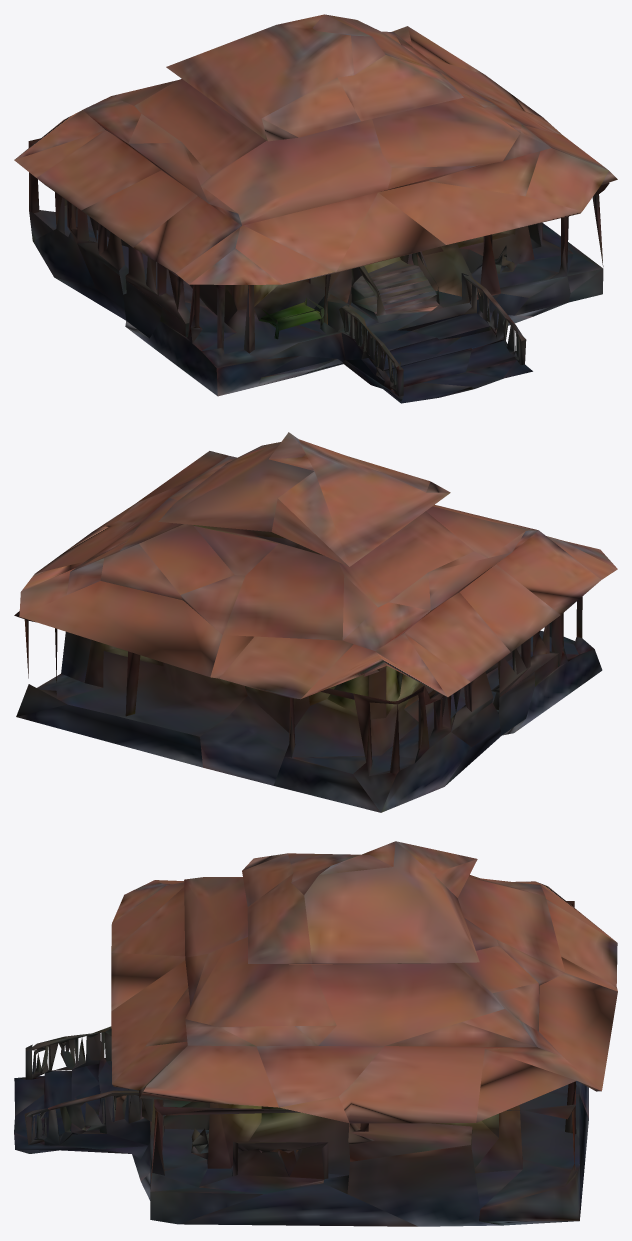
File: rumah_bhagawan_lod2.glb
3 views of the same model, one above another, from view 1: azimuth 30°, elevation 25°; view 2: azimuth 150°, elevation 25°; view 3: azimuth 270°, elevation 25° (orthographic). The views are drawn at different scales.
Parts seen in each view (by area): view 1: tripo_node_900529af-2d0c-4f46-9b9a-b20896b5082d; view 2: tripo_node_900529af-2d0c-4f46-9b9a-b20896b5082d; view 3: tripo_node_900529af-2d0c-4f46-9b9a-b20896b5082d.
Boxes of the visible parts, x1,y1,x2,y2 form: tripo_node_900529af-2d0c-4f46-9b9a-b20896b5082d: [14, 14, 617, 403]; tripo_node_900529af-2d0c-4f46-9b9a-b20896b5082d: [14, 432, 617, 812]; tripo_node_900529af-2d0c-4f46-9b9a-b20896b5082d: [14, 841, 617, 1226].
Bounding box in the file's own units: 0.9281 × 0.4866 × 0.9948.
Materials: 1 (1 with a texture image).
